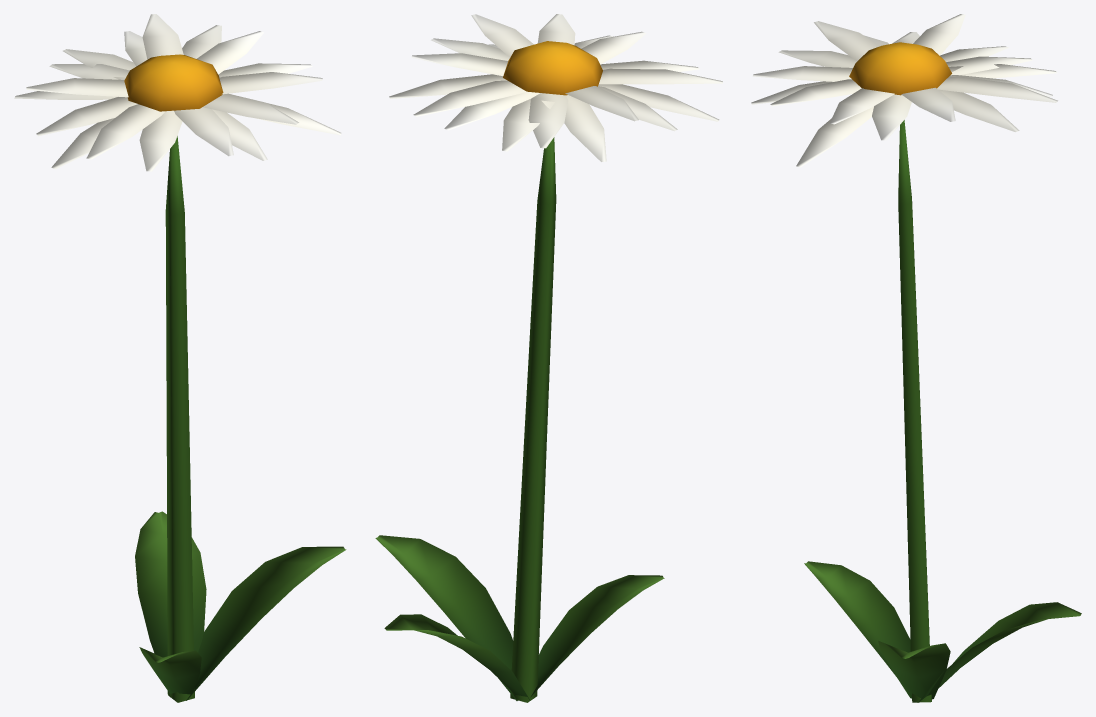
File: flower-daisy.glb
3 views of the same model, side by side, from view 1: azimuth 30°, elevation 25°; view 2: azimuth 150°, elevation 25°; view 3: azimuth 270°, elevation 25° (orthographic).
Visible parts, largest first — view 1: Flower_Daisy; view 2: Flower_Daisy; view 3: Flower_Daisy.
Part boxes in pixels (box(x1,y1,x2,y2)): Flower_Daisy: box(14, 14, 346, 702); Flower_Daisy: box(375, 14, 722, 702); Flower_Daisy: box(751, 14, 1081, 702).
Size of the model in its own units: 0.1464 by 0.2856 by 0.1332.
